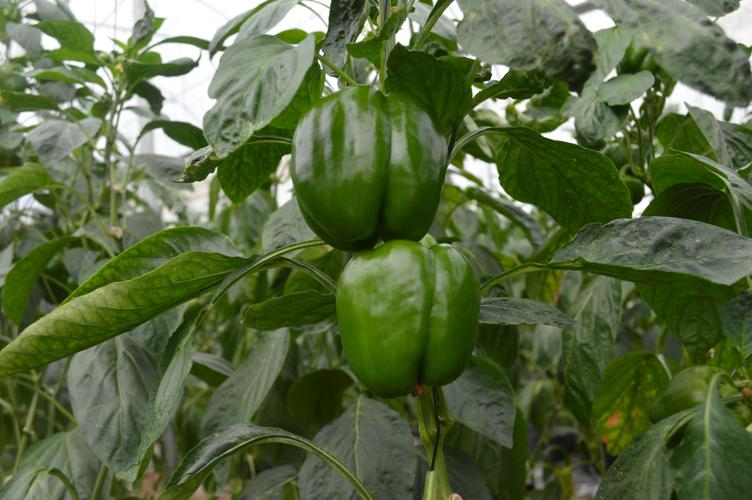BellPepper: (272, 81, 479, 253), (332, 233, 491, 404)
